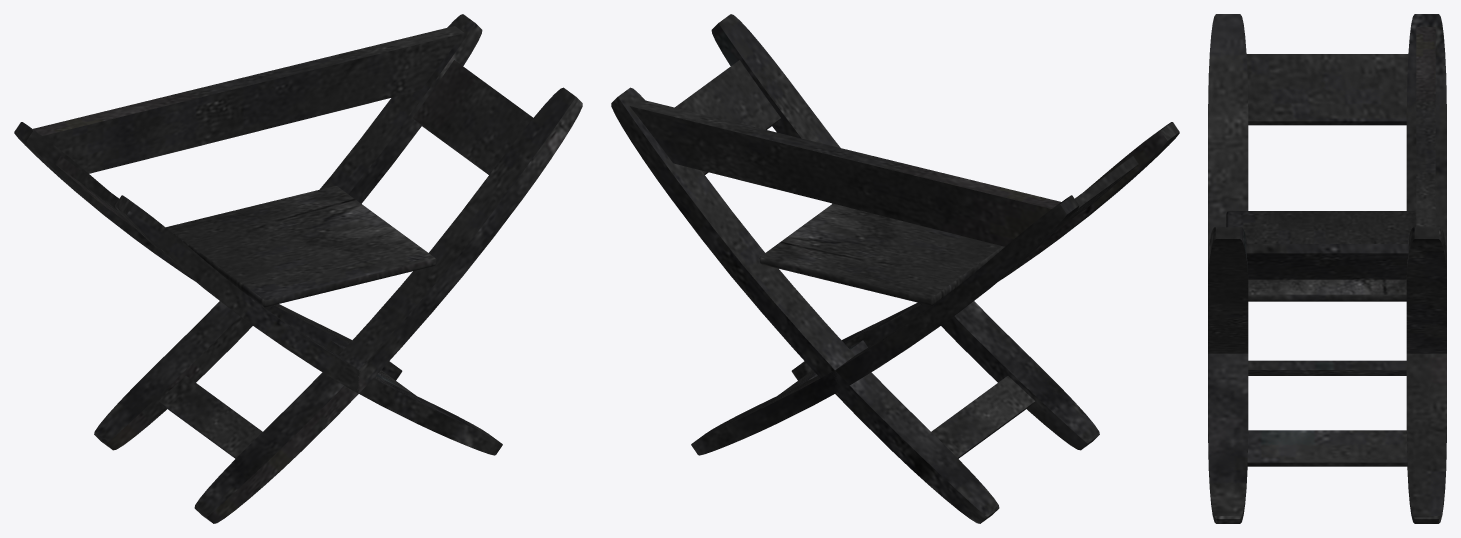
The model's file is SM_Chair_02.fbx.
3 renders of one model, left to right at view 1: azimuth 30°, elevation 25°; view 2: azimuth 150°, elevation 25°; view 3: azimuth 270°, elevation 25°, orthographic.
Visible parts, largest first — view 1: SM_Chair_02; view 2: SM_Chair_02; view 3: SM_Chair_02.
Part boxes in pixels (<box>): SM_Chair_02: <box>14,14,582,523</box>; SM_Chair_02: <box>611,14,1179,523</box>; SM_Chair_02: <box>1208,14,1446,523</box>.
Bounding box in the file's own units: 92.59 × 42.51 × 65.82.
1 material, 1 textured.
